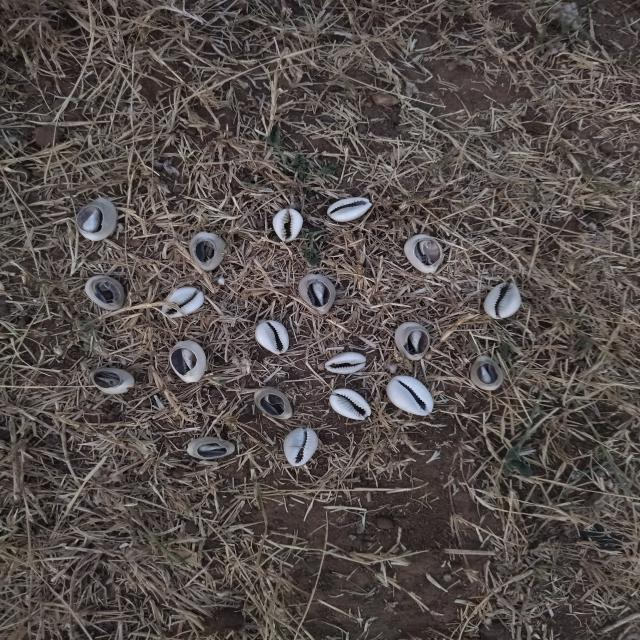facedown: (72, 194, 125, 248), (384, 317, 440, 368), (162, 338, 214, 388), (402, 231, 453, 280), (77, 271, 133, 315), (182, 228, 230, 277), (245, 382, 301, 423), (295, 271, 343, 318), (182, 431, 244, 466), (82, 363, 138, 401), (464, 351, 508, 397)
faceup: (381, 372, 442, 420), (322, 385, 380, 426), (480, 275, 527, 324), (159, 284, 213, 323), (251, 317, 299, 360), (279, 426, 323, 472), (322, 192, 380, 226), (316, 347, 375, 378), (268, 205, 306, 248)
